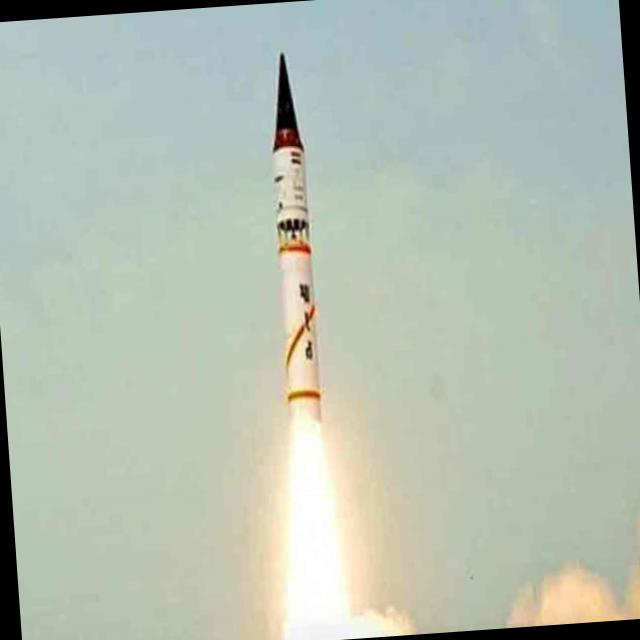rocket: (253, 34, 342, 598)
